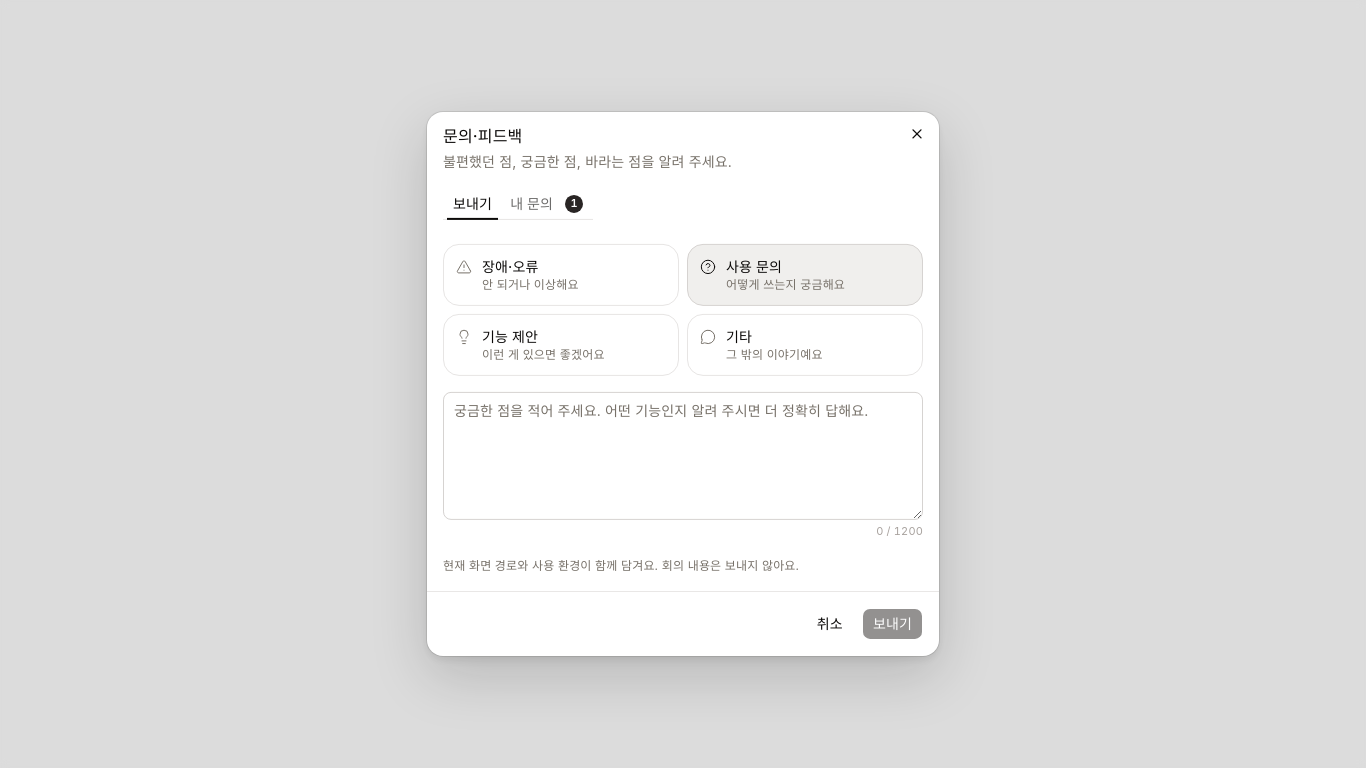
Scenario: FeedbackDialog › 내 문의 탭에 답변을 보여 주고 꼬리는 숨긴다
The width and height of the screenshot is (1366, 768).
Check: the text named "새 답변 1개" is shown, box [565,194,583,212]
Click the tab "내 문의 1" at (547, 203), box [503,191,590,215]
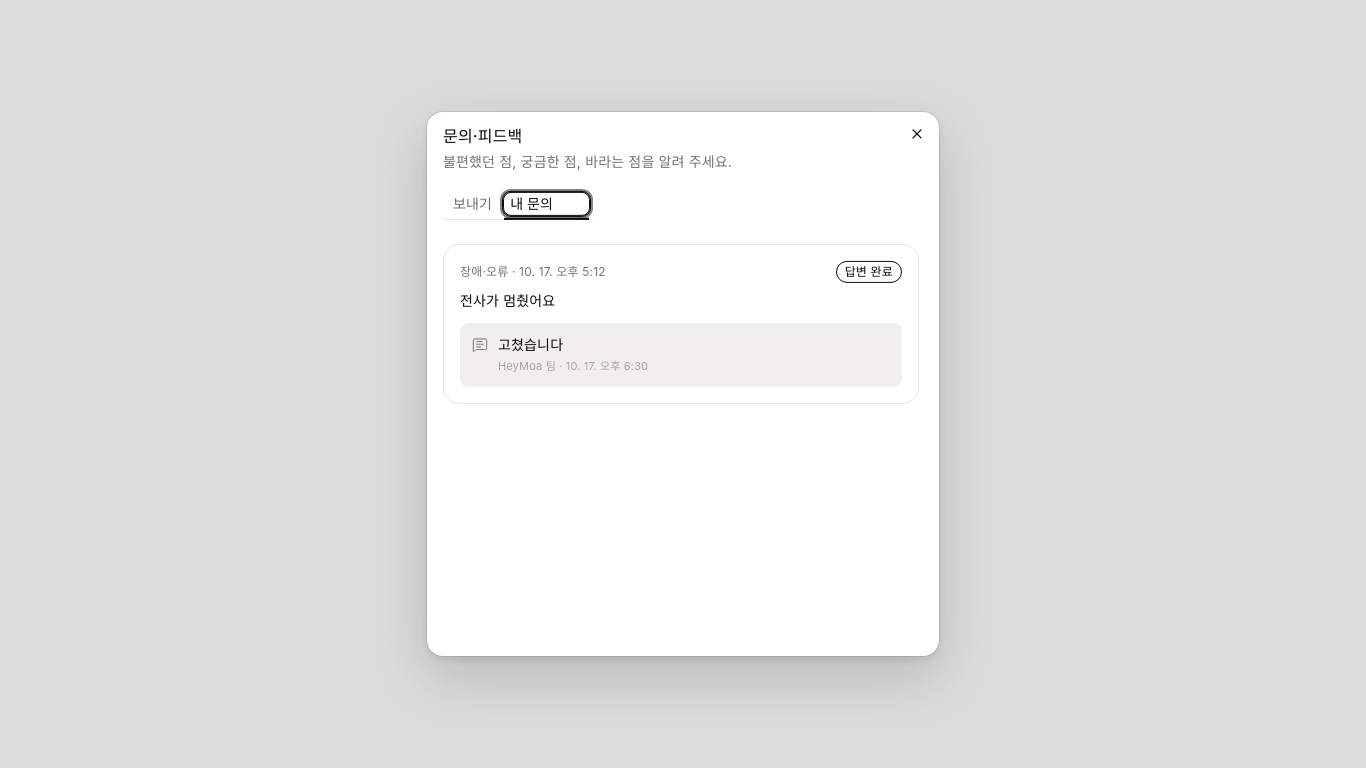
Check: the text "답변 완료" is shown, box [836,261,902,283]
Check: the text "고쳤습니다" is shown, box [498,336,563,353]
Check: the text "전사가 멈췄어요" is shown, box [460,292,555,309]
